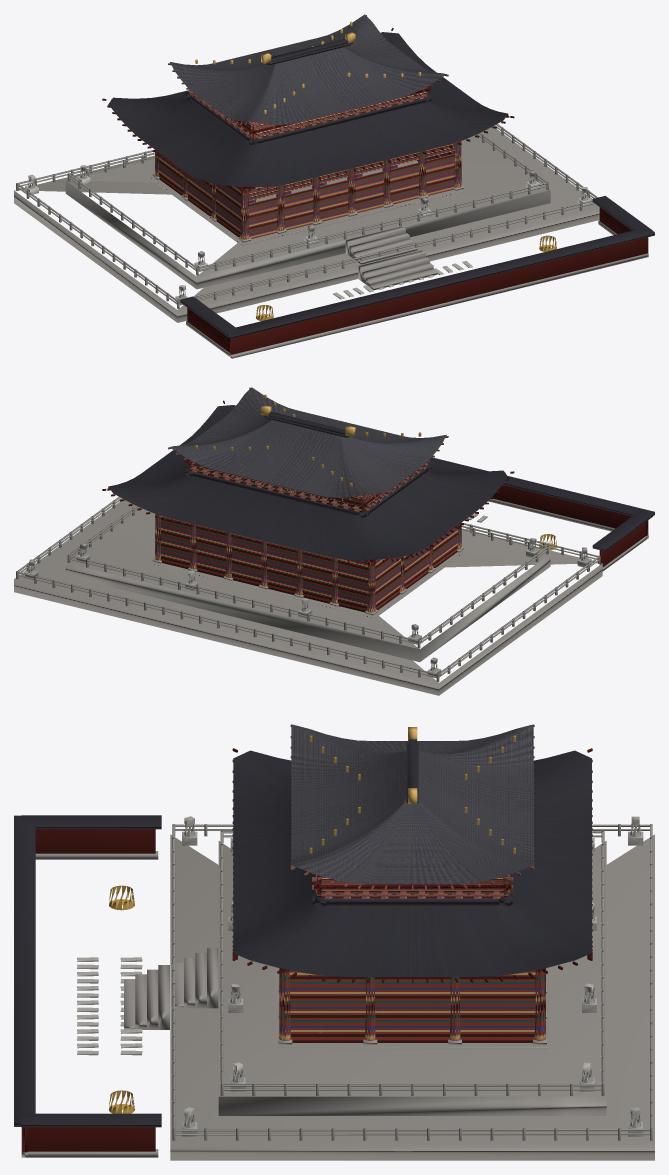
3 views of the same model, one above another, from view 1: azimuth 30°, elevation 25°; view 2: azimuth 150°, elevation 25°; view 3: azimuth 270°, elevation 25° (orthographic). The views are drawn at different scales.
Visible parts, largest first — view 1: woldae_2tier_granite, lower_roof_band_surface, upper_roof_paljak_surface, geunjeongjeon_hall_columns_walls, haenggak_corridor_boundary, woldae_balustrade_posts_rails, haenggak_tiled_roof, geunjeongjeon_hall_floor_and_column_bases, roof_ridge_cap, sasinsu_sibijisin_stone_statues, gongpo_bracket_bands_1f_2f, upper_story_pobyeok_wall (+1 smaller); view 2: woldae_2tier_granite, lower_roof_band_surface, upper_roof_paljak_surface, geunjeongjeon_hall_columns_walls, woldae_balustrade_posts_rails, haenggak_corridor_boundary, haenggak_tiled_roof, roof_ridge_cap, geunjeongjeon_hall_floor_and_column_bases, sasinsu_sibijisin_stone_statues, upper_story_pobyeok_wall, gongpo_bracket_bands_1f_2f (+2 smaller); view 3: woldae_2tier_granite, lower_roof_band_surface, upper_roof_paljak_surface, geunjeongjeon_hall_columns_walls, haenggak_tiled_roof, woldae_balustrade_posts_rails, haenggak_corridor_boundary, sasinsu_sibijisin_stone_statues, geunjeongjeon_hall_floor_and_column_bases, pumgyeseok_rank_stones_courtyard, roof_ridge_cap, upper_story_pobyeok_wall (+4 smaller).
Boxes of the visible parts, box(x1,y1,x2,y2) form: woldae_2tier_granite: box(14, 127, 648, 358); lower_roof_band_surface: box(108, 32, 507, 187); upper_roof_paljak_surface: box(170, 14, 446, 124); geunjeongjeon_hall_columns_walls: box(155, 141, 461, 239); haenggak_corridor_boundary: box(187, 207, 648, 354); woldae_balustrade_posts_rails: box(16, 124, 597, 308); haenggak_tiled_roof: box(180, 196, 654, 338); geunjeongjeon_hall_floor_and_column_bases: box(150, 160, 466, 246); roof_ridge_cap: box(185, 39, 431, 145); sasinsu_sibijisin_stone_statues: box(25, 165, 591, 305); gongpo_bracket_bands_1f_2f: box(186, 86, 430, 138); upper_story_pobyeok_wall: box(189, 87, 427, 140); woldae_2tier_granite: box(14, 499, 648, 695); lower_roof_band_surface: box(108, 405, 507, 560); upper_roof_paljak_surface: box(170, 387, 446, 497); geunjeongjeon_hall_columns_walls: box(155, 514, 461, 612); woldae_balustrade_posts_rails: box(16, 497, 600, 681); haenggak_corridor_boundary: box(492, 485, 648, 567); haenggak_tiled_roof: box(183, 442, 654, 551); roof_ridge_cap: box(185, 412, 431, 518); geunjeongjeon_hall_floor_and_column_bases: box(150, 546, 466, 619); sasinsu_sibijisin_stone_statues: box(25, 538, 591, 678); upper_story_pobyeok_wall: box(189, 459, 426, 515); gongpo_bracket_bands_1f_2f: box(186, 459, 430, 511); woldae_2tier_granite: box(21, 834, 654, 1160); lower_roof_band_surface: box(233, 750, 591, 976); upper_roof_paljak_surface: box(291, 724, 533, 884); geunjeongjeon_hall_columns_walls: box(279, 968, 545, 1042); haenggak_tiled_roof: box(14, 815, 161, 1127); woldae_balustrade_posts_rails: box(172, 824, 652, 1140); haenggak_corridor_boundary: box(22, 829, 155, 1152); sasinsu_sibijisin_stone_statues: box(182, 816, 643, 1136); geunjeongjeon_hall_floor_and_column_bases: box(275, 967, 549, 1049); pumgyeseok_rank_stones_courtyard: box(77, 957, 142, 1055); roof_ridge_cap: box(312, 739, 512, 905); upper_story_pobyeok_wall: box(317, 875, 508, 905).
Bounding box in the file's own units: 60 × 22.5 × 52.9.
Materials: 4 (4 with a texture image).
